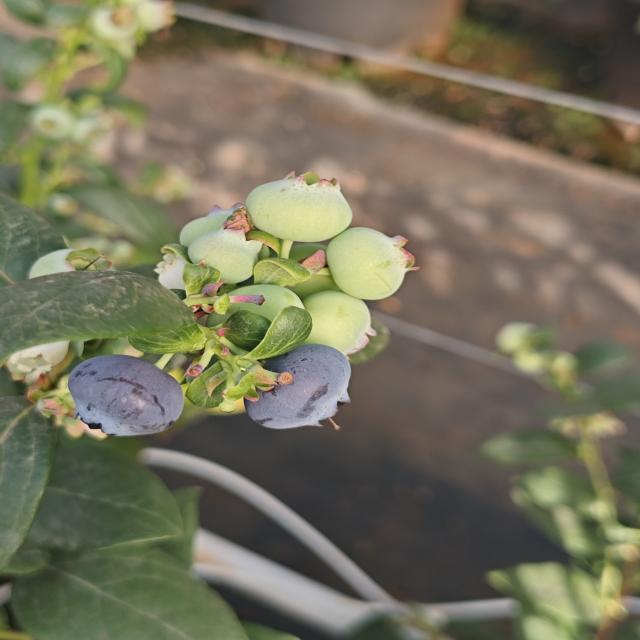ripe: (49, 345, 183, 441), (249, 346, 357, 432)
